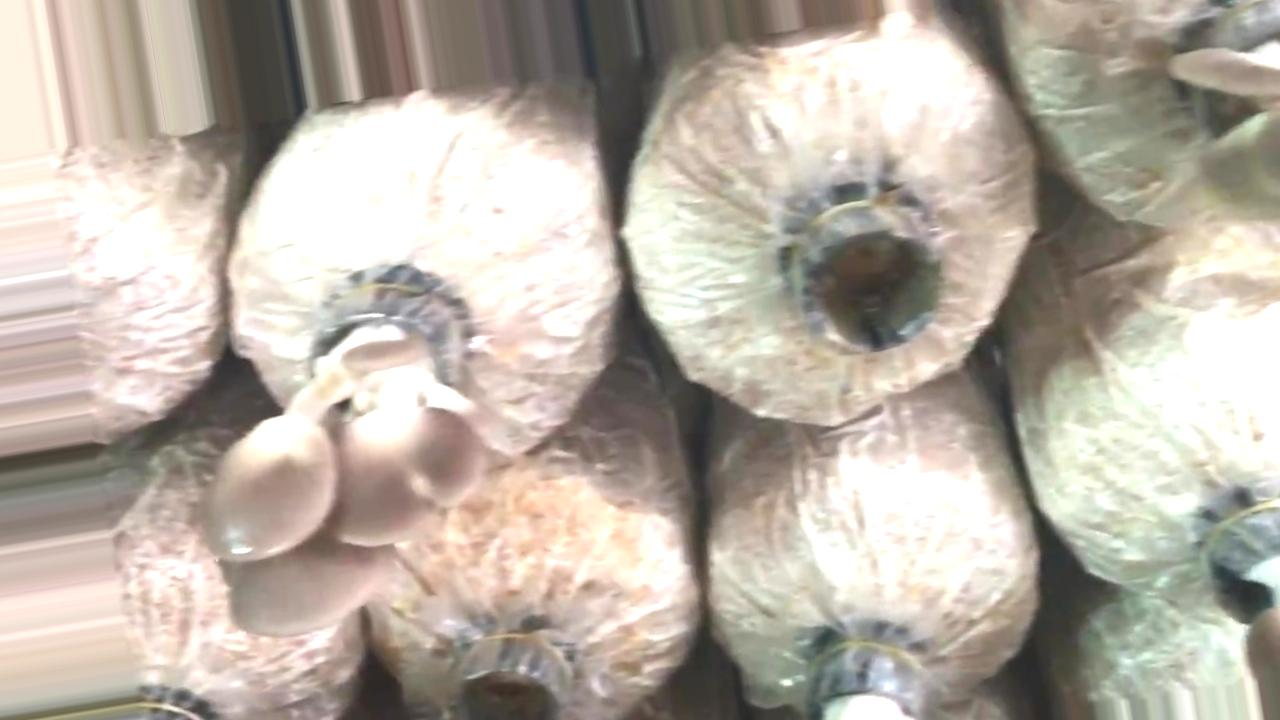nam: (207, 282, 488, 641)
